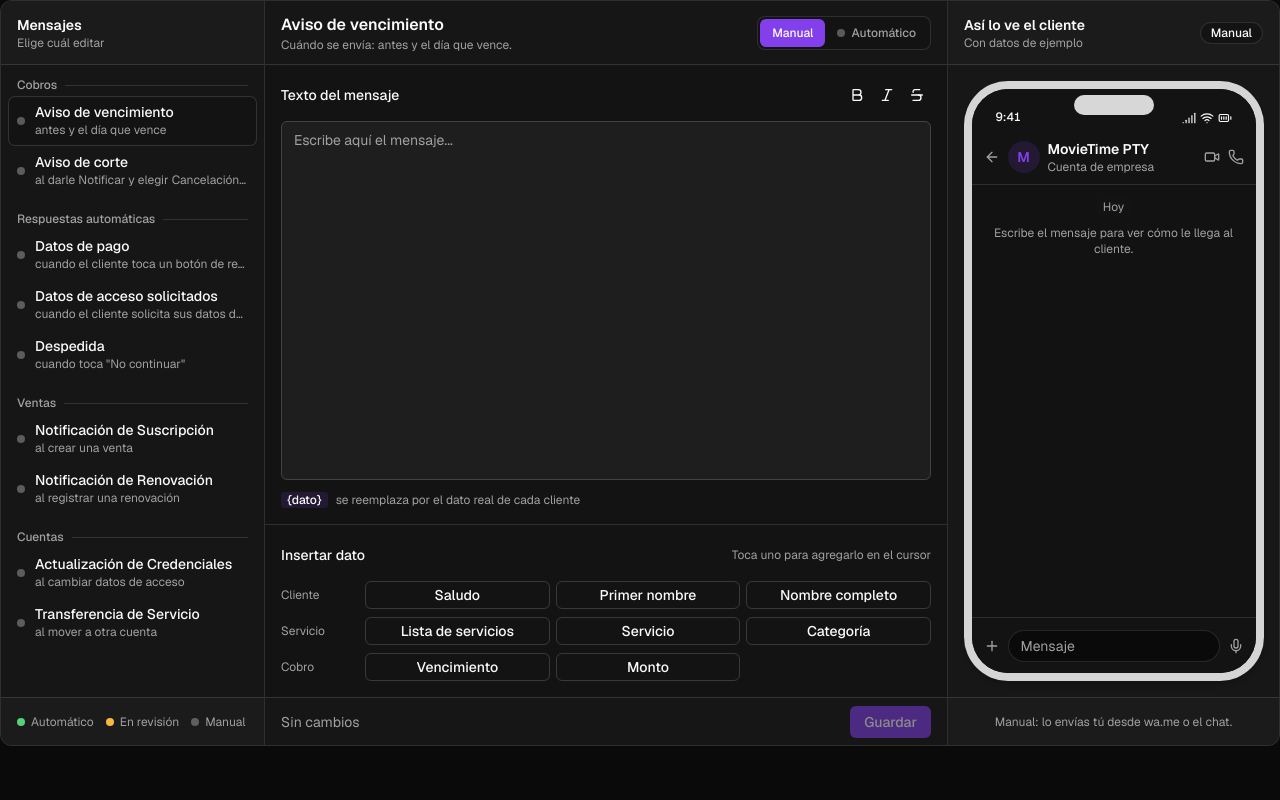
Test case: TemplateEditor › offers credentials and the items block for subscriptions
Click the button "Notificación de Suscripción al crear una venta".
click(132, 439)  # box top-left (9, 415), bottom-right (256, 463)
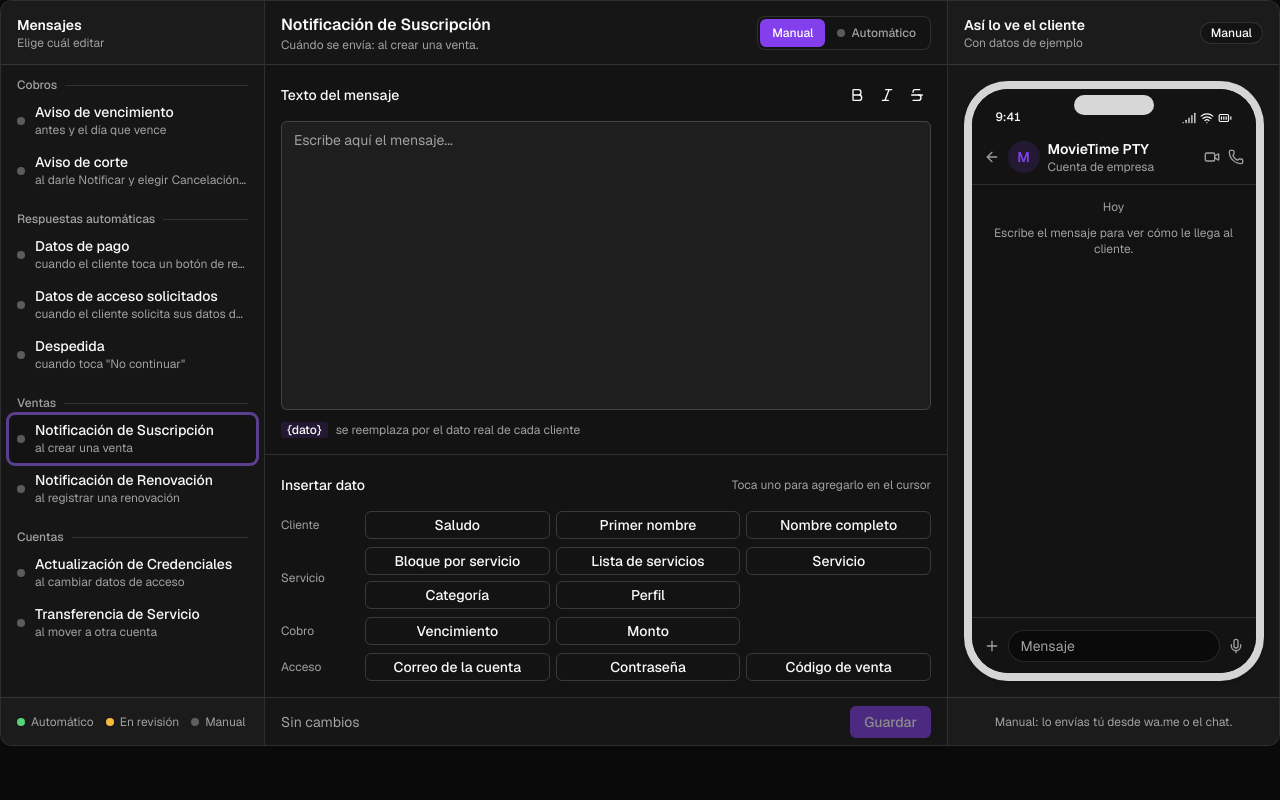
expect the button "Contraseña" is shown: met, box top-left (556, 653), bottom-right (740, 681)
expect the button "Bloque por servicio" is shown: met, box top-left (365, 547), bottom-right (550, 575)
